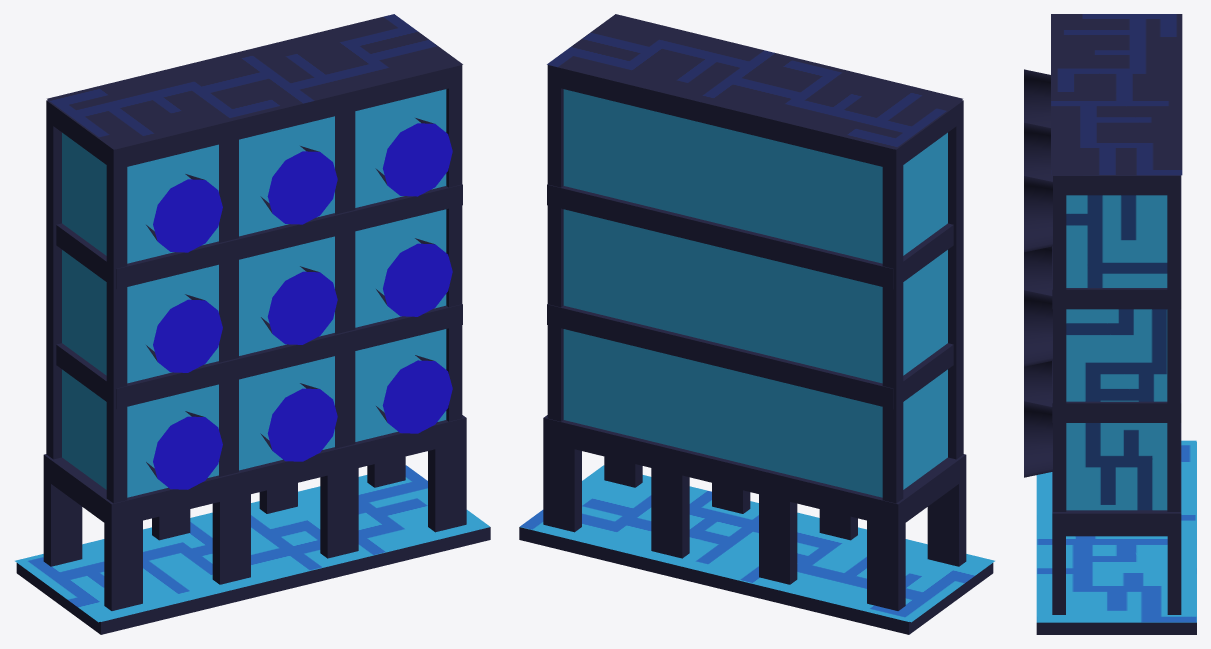
File: 2026-1-8-CarbonCapture-v014.fbx
3 renders of one model, left to right at view 1: azimuth 30°, elevation 25°; view 2: azimuth 150°, elevation 25°; view 3: azimuth 270°, elevation 25°, orthographic. The views are drawn at different scales.
Visible parts, largest first — view 1: Cube.011, Cylinder.003, Cube.014, Cube.003, Plane, Plane.002, Cube.015, Cube.016, Cube, Plane.005, Plane.007; view 2: Cube.011, Cube.014, Cube.003, Plane, Plane.002, Cube.015, Cube.016, Cube; view 3: Plane.001, Plane, Plane.002, Cylinder.003, Cube.003, Cube.014, Cube.015, Cube.016, Cube.
Part boxes in pixels (left/top/right/bottom): Cube.011: left=62, top=89, right=446, bottom=497; Cylinder.003: left=146, top=118, right=452, bottom=489; Cube.014: left=43, top=415, right=466, bottom=610; Cube.003: left=46, top=65, right=462, bottom=503; Plane: left=47, top=14, right=462, bottom=149; Plane.002: left=15, top=465, right=489, bottom=622; Cube.015: left=56, top=184, right=462, bottom=289; Cube.016: left=56, top=304, right=462, bottom=409; Cube: left=16, top=527, right=490, bottom=634; Plane.005: left=335, top=111, right=355, bottom=448; Plane.007: left=219, top=139, right=238, bottom=476; Cube.011: left=563, top=89, right=947, bottom=497; Cube.014: left=543, top=415, right=966, bottom=610; Cube.003: left=547, top=65, right=963, bottom=503; Plane: left=547, top=14, right=962, bottom=149; Plane.002: left=520, top=465, right=994, bottom=622; Cube.015: left=547, top=184, right=953, bottom=289; Cube.016: left=547, top=304, right=953, bottom=409; Cube: left=519, top=527, right=993, bottom=634; Plane.001: left=1066, top=195, right=1167, bottom=510; Plane: left=1051, top=14, right=1182, bottom=175; Plane.002: left=1037, top=440, right=1196, bottom=622; Cylinder.003: left=1024, top=69, right=1052, bottom=477; Cube.003: left=1053, top=175, right=1180, bottom=511; Cube.014: left=1052, top=423, right=1181, bottom=614; Cube.015: left=1052, top=175, right=1181, bottom=309; Cube.016: left=1052, top=309, right=1181, bottom=422; Cube: left=1036, top=442, right=1196, bottom=634.
Bounding box in the file's own units: 233 × 269 × 93.61.
6 materials, 3 textured.
